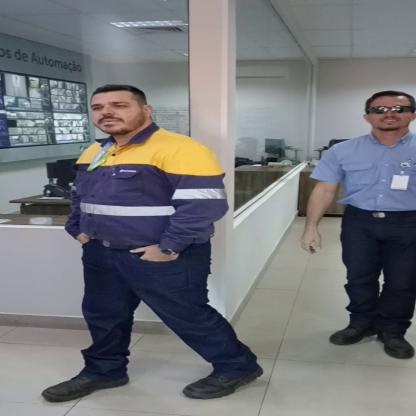Operacional: (77, 135, 226, 249)
